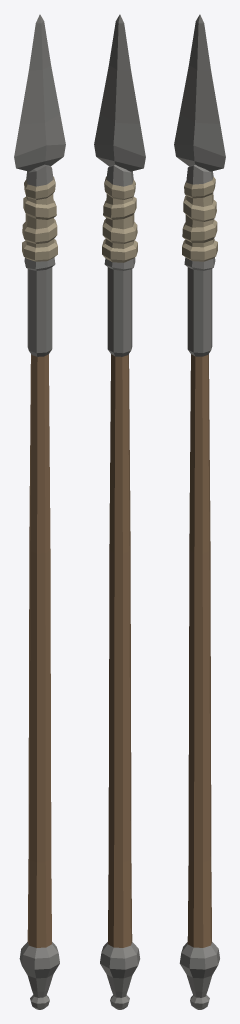
Rendered from SM_pwe_rome_spear_01b.fbx.
3 views of the same model, side by side, from view 1: azimuth 30°, elevation 25°; view 2: azimuth 150°, elevation 25°; view 3: azimuth 330°, elevation 25° (orthographic).
Parts seen in each view (by area): view 1: SM_pwe_rome_spear_01b; view 2: SM_pwe_rome_spear_01b; view 3: SM_pwe_rome_spear_01b.
Part boxes in pixels (x1,y1,x2,y2): SM_pwe_rome_spear_01b: (14,14,65,1009); SM_pwe_rome_spear_01b: (94,14,145,1009); SM_pwe_rome_spear_01b: (174,14,225,1009).
Size of the model in its own units: 11.6 by 212 by 8.11.
